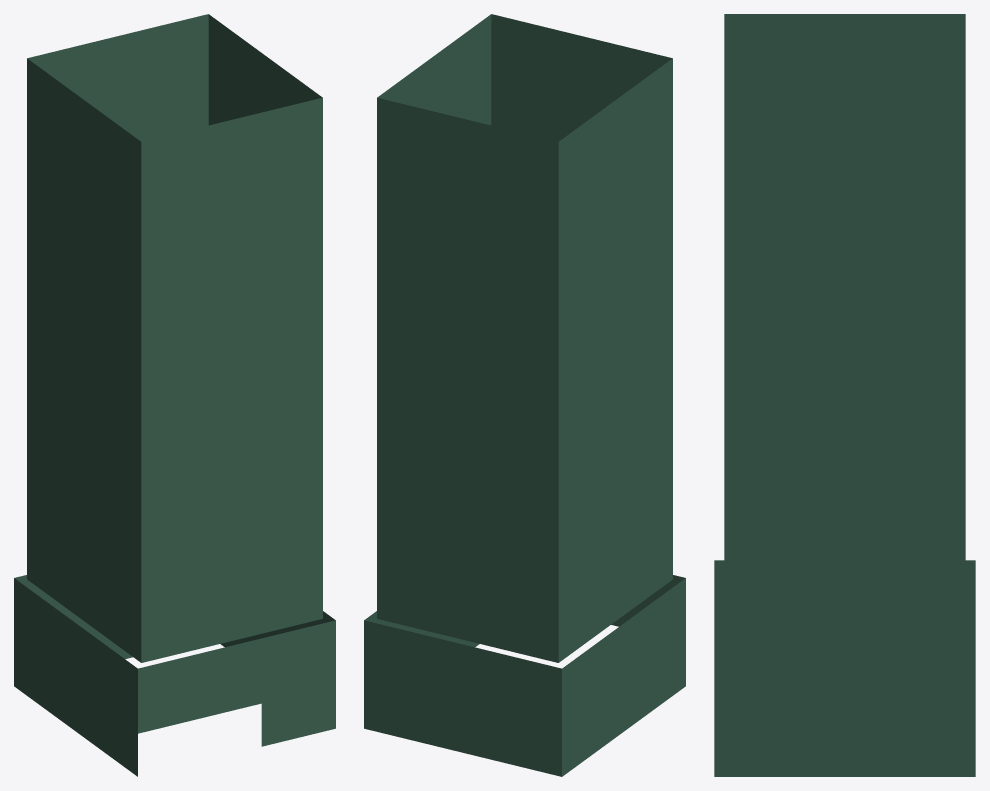
File: 1552-Buildings-shell-pieces-facade-bay-wall-round-an-opening-reveals-sill-head-emitBa.glb
3 renders of one model, left to right at view 1: azimuth 30°, elevation 25°; view 2: azimuth 150°, elevation 25°; view 3: azimuth 270°, elevation 25°, orthographic. The views are drawn at different scales.
Parts seen in each view (by area): view 1: emitBay; view 2: emitBay; view 3: emitBay.
Part boxes in pixels (x1,y1,x2,y2): emitBay: (14, 14, 335, 776); emitBay: (364, 14, 685, 776); emitBay: (714, 14, 975, 776).
Bounding box in the file's own units: 24 × 72.93 × 26.
